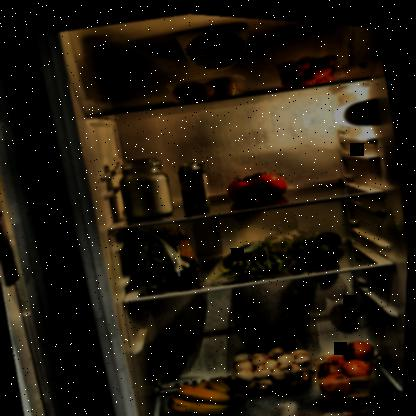banana: (165, 364, 252, 415)
green_beans: (207, 221, 305, 285)
heavy_cream: (176, 156, 214, 211)
lime: (283, 220, 348, 265)
mushrooms: (232, 330, 325, 396)
onion: (308, 328, 386, 402)
potato: (164, 62, 249, 109)
spinach: (119, 210, 211, 296)
strawberries: (272, 42, 344, 90)
tomato: (224, 159, 296, 207)
